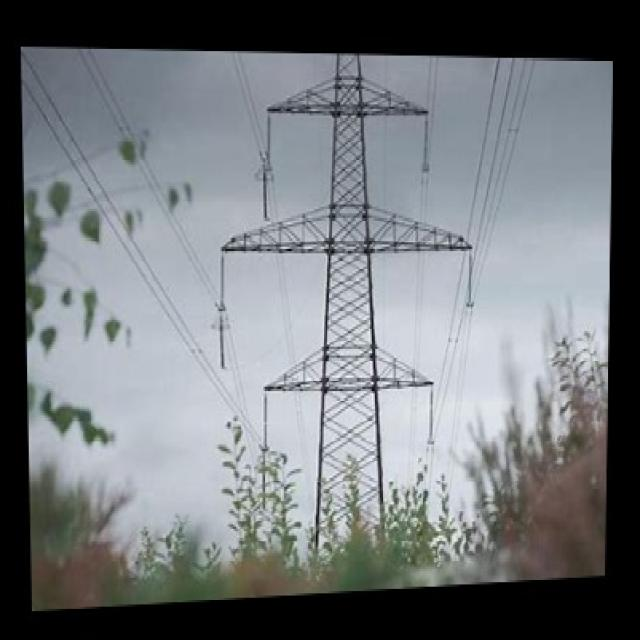utility poles: (239, 342, 453, 582)
